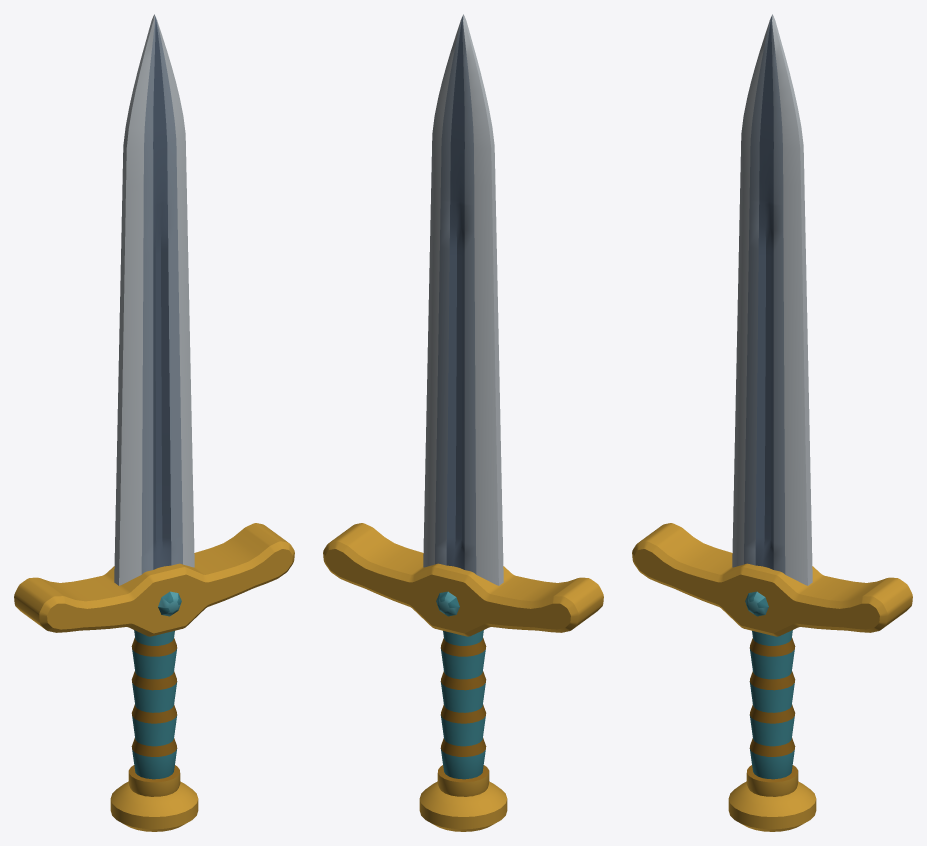
Rendered from Longsword_22.glb.
3 views of the same model, side by side, from view 1: azimuth 30°, elevation 25°; view 2: azimuth 150°, elevation 25°; view 3: azimuth 330°, elevation 25° (orthographic).
Parts seen in each view (by area): view 1: Longsword_22; view 2: Longsword_22; view 3: Longsword_22.
Boxes of the visible parts, x1,y1,x2,y2 form: Longsword_22: (14,14,294,831); Longsword_22: (323,14,603,831); Longsword_22: (632,14,912,831).
Bounding box in the file's own units: 2.29 × 6.89 × 0.6812.
